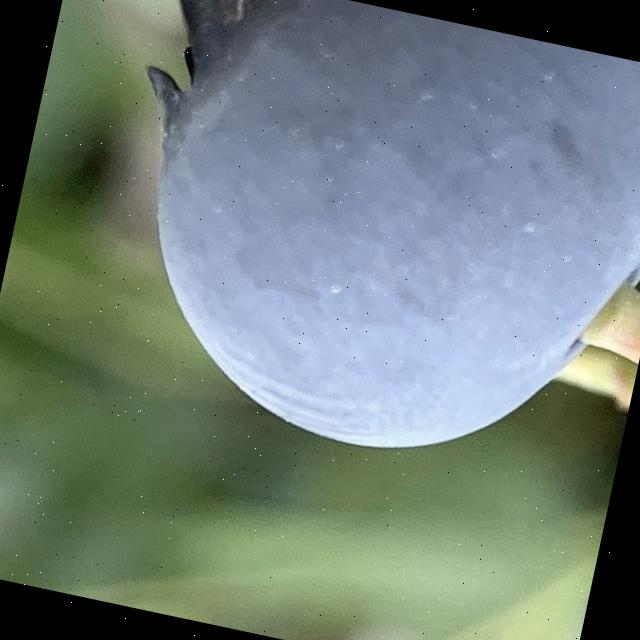Blueberries: (68, 0, 640, 506)
